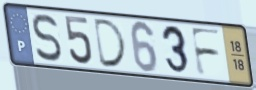3: (161, 23, 193, 77)
5: (62, 15, 95, 67)
6: (129, 19, 159, 75)
D: (92, 17, 130, 70)
F: (188, 26, 223, 79)
S: (31, 12, 64, 64)
